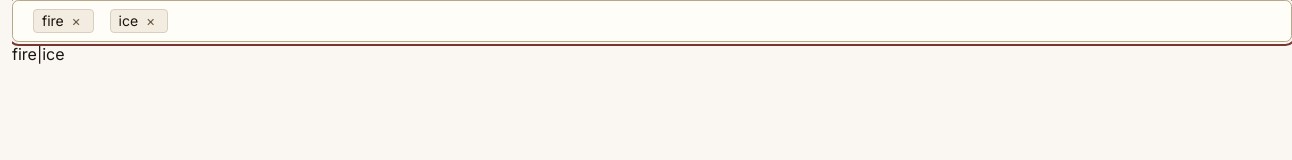
<TagInput> › editing + Enter commits the new value at the same index
Click the text "fire". click: click(53, 21)
box: 42,10 -> 64,32
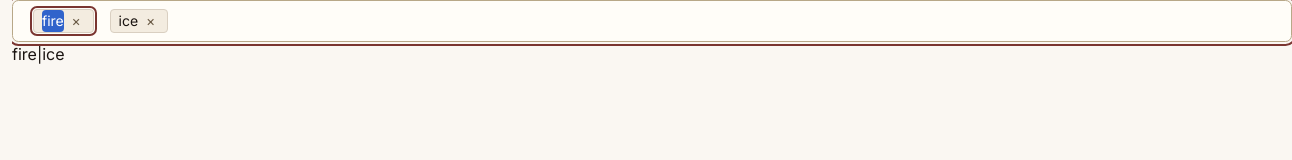
Clear the field named "edit tag 'fire'". click: (53, 21)
box: 42,10 -> 64,32
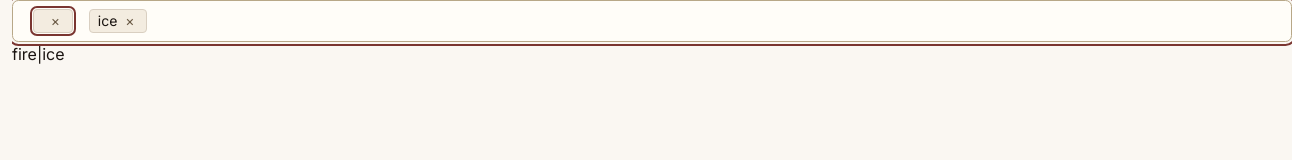
Type "lightning" into the field named "edit tag 'fire'". click: (53, 21)
box: 33,9 -> 73,33
Then press Enter
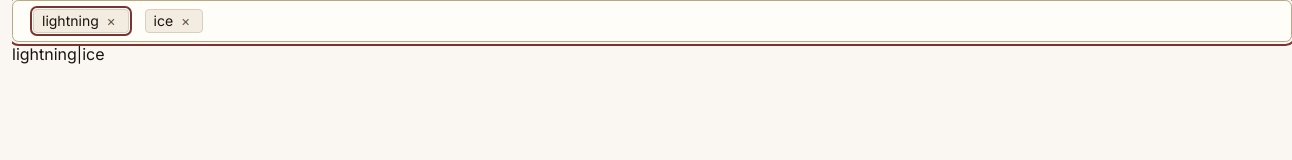
Expected: the text "lightning|ice" is shown, 12,44 -> 104,64
